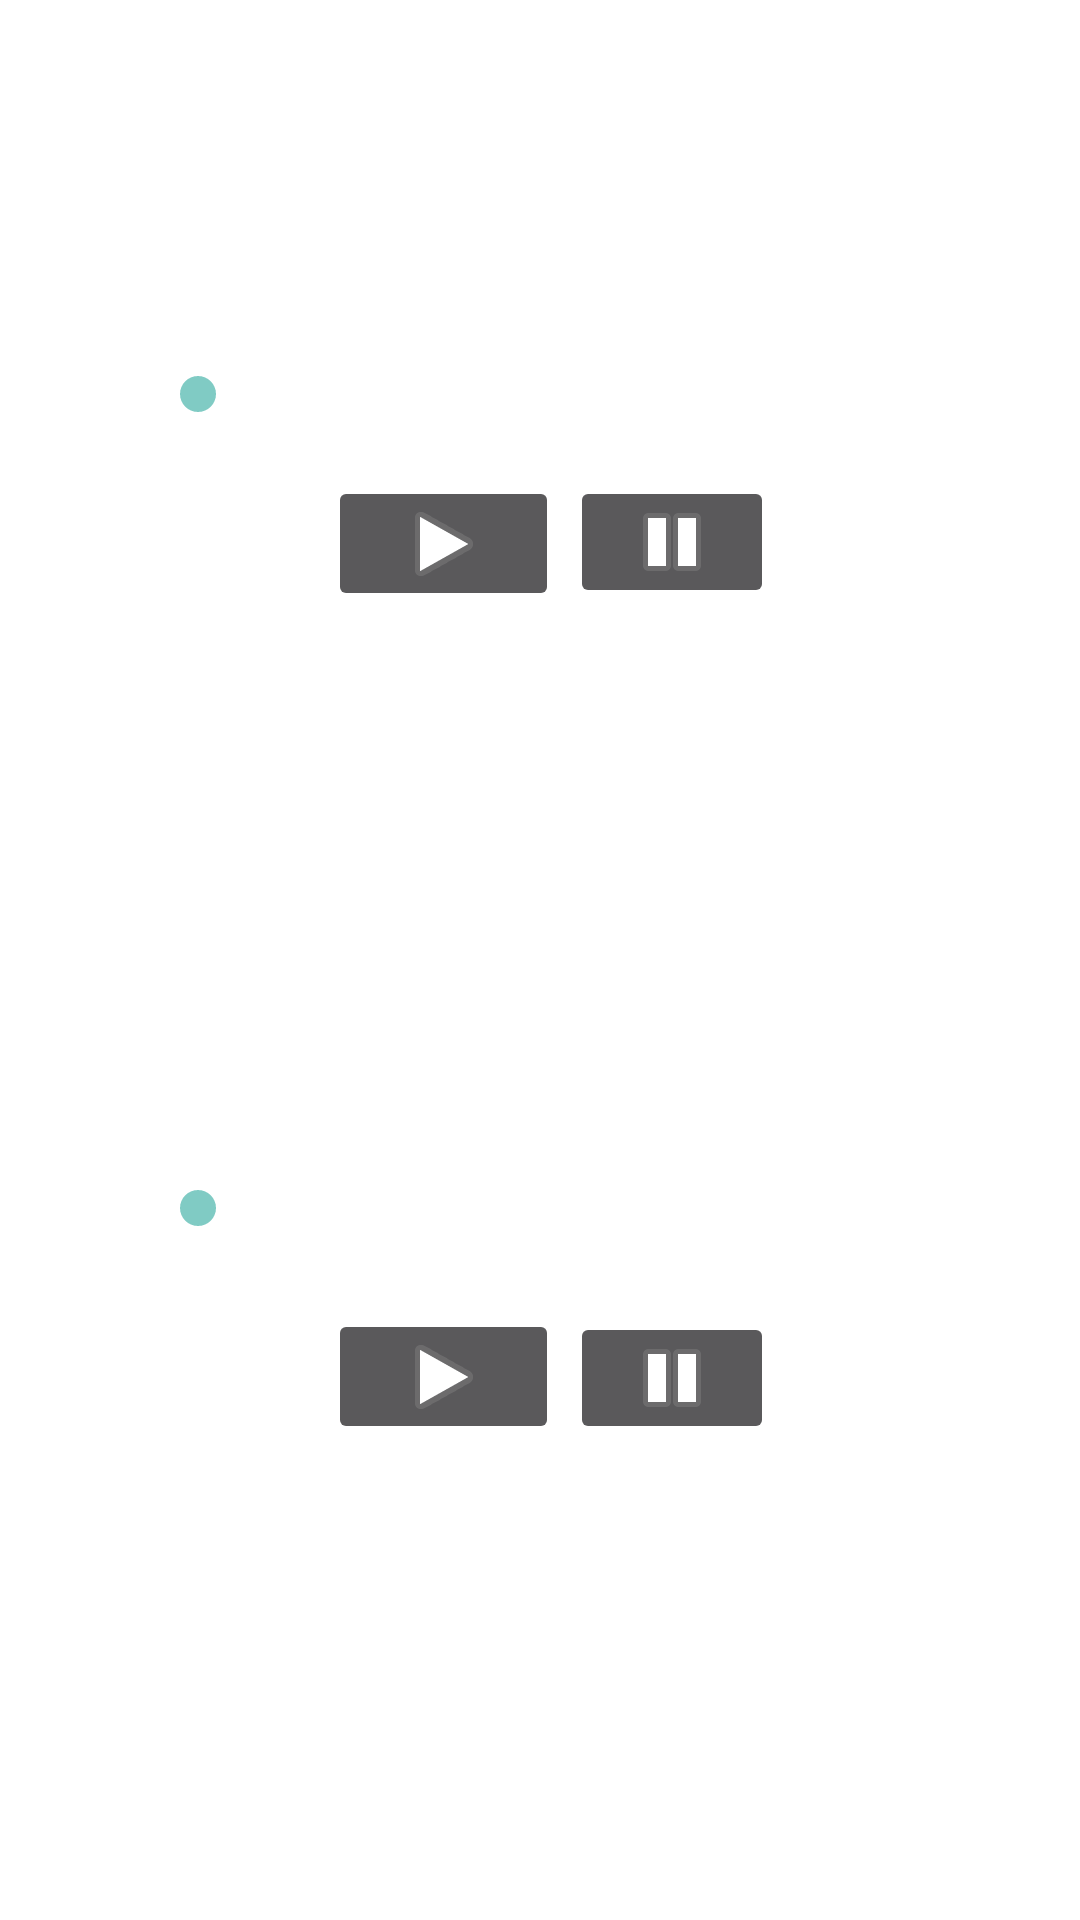

Locate icon controls on the screen. Image size 1080×1920, boxes as [x1=x1, y1=y1, x2=x2, y2=y2].
pause: [x1=582, y1=494, x2=762, y2=590], [x1=582, y1=1330, x2=762, y2=1426]
play: [x1=340, y1=494, x2=547, y2=593], [x1=340, y1=1327, x2=547, y2=1426]
